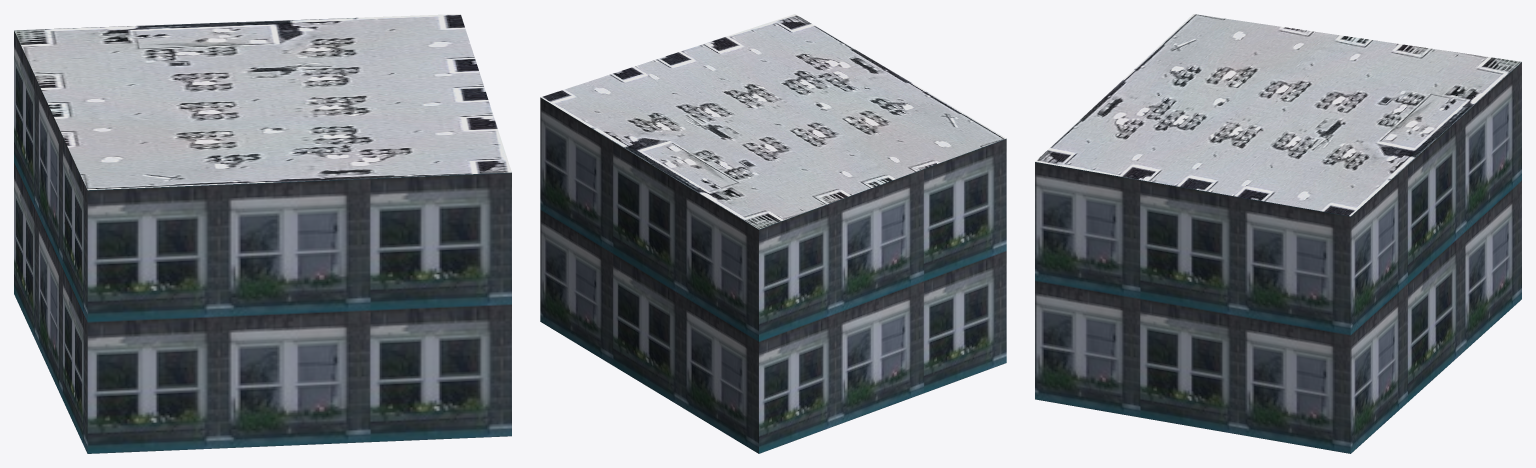
Rendered from ResTex__2535.fbx.
3 renders of one model, left to right at view 1: azimuth 30°, elevation 25°; view 2: azimuth 150°, elevation 25°; view 3: azimuth 270°, elevation 25°, orthographic. The views are drawn at different scales.
Visible parts, largest first — view 1: CityEngineMaterial_11_m, CityEngineMaterial_m; view 2: CityEngineMaterial_11_m, CityEngineMaterial_m; view 3: CityEngineMaterial_11_m, CityEngineMaterial_m.
Boxes of the visible parts, x1,y1,x2,y2 form: CityEngineMaterial_11_m: (14, 31, 511, 453); CityEngineMaterial_m: (14, 14, 511, 190); CityEngineMaterial_11_m: (540, 97, 1006, 453); CityEngineMaterial_m: (541, 14, 1005, 229); CityEngineMaterial_11_m: (1035, 62, 1521, 453); CityEngineMaterial_m: (1035, 14, 1521, 216).
Bounding box in the file's own units: 10.96 × 6 × 11.14.
2 materials, 2 textured.
